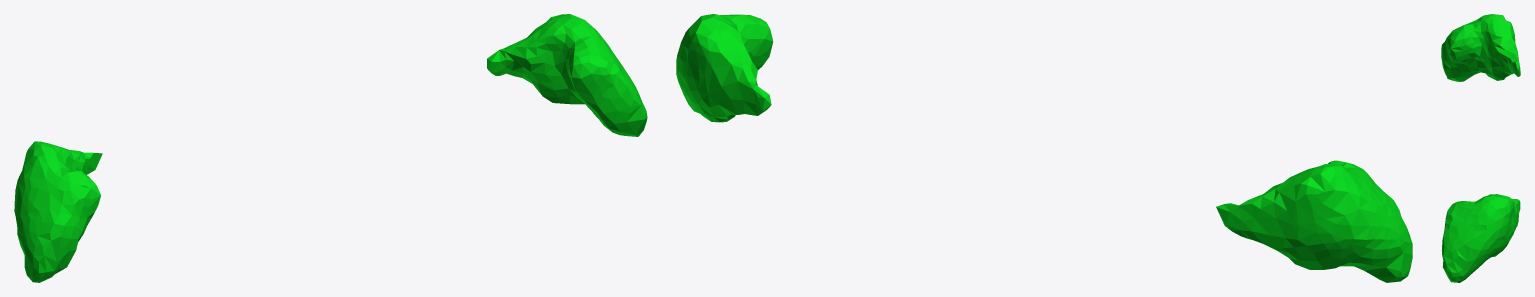
The model's file is 7-8AV-area 8 of cortex, anteroventral part-('0.0000', '1.0000', '0.1137').obj.
The picture shows the model from 3 angles, left to right: view 1: azimuth 30°, elevation 25°; view 2: azimuth 150°, elevation 25°; view 3: azimuth 270°, elevation 25°; orthographic projection. The views are drawn at different scales.
Bounding box in the file's own units: 269 × 45.99 × 43.15.
